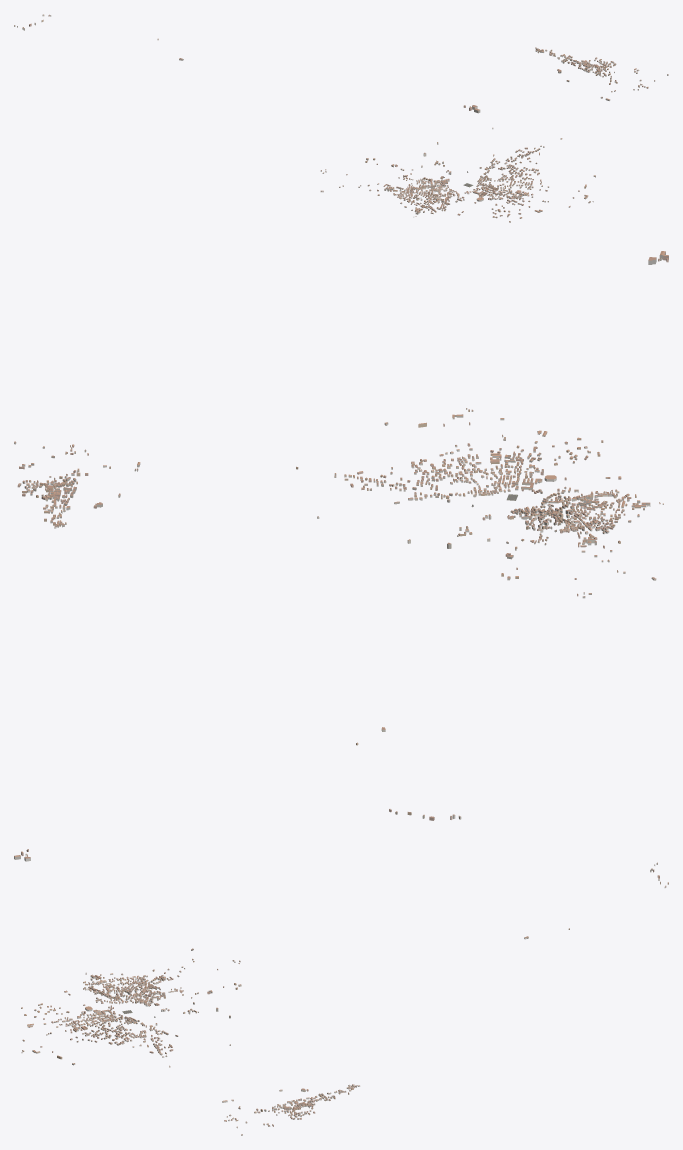
File: borghi.glb
3 views of the same model, one above another, from view 1: azimuth 30°, elevation 25°; view 2: azimuth 150°, elevation 25°; view 3: azimuth 270°, elevation 25° (orthographic). The views are drawn at different scales.
Parts seen in each view (by area): view 1: Borghi; view 2: Borghi; view 3: Borghi.
Boxes of the visible parts, left/top/right/bottom form: Borghi: left=14, top=14, right=668, bottom=222; Borghi: left=14, top=251, right=668, bottom=820; Borghi: left=14, top=849, right=668, bottom=1135.
Bounding box in the file's own units: 5530 × 1434 × 6196.
14 materials, 1 textured.
